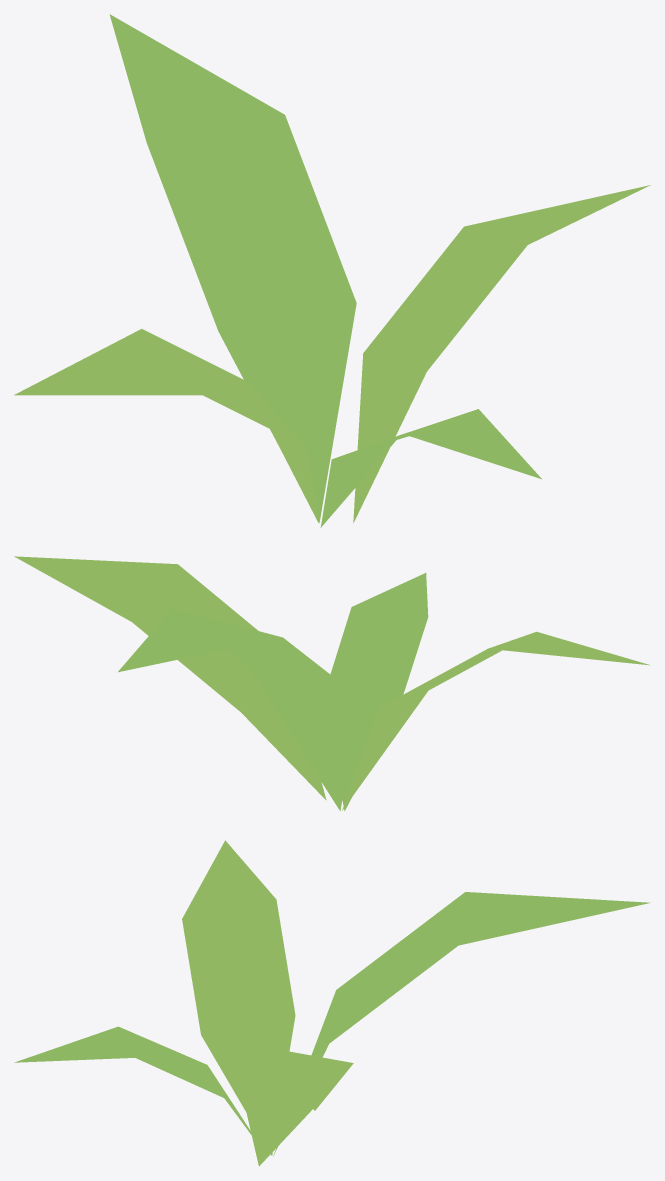
The model's file is Plant_b_TwoS_05.fbx.
3 renders of one model, top to bottom at view 1: azimuth 30°, elevation 25°; view 2: azimuth 150°, elevation 25°; view 3: azimuth 270°, elevation 25°, orthographic. The views are drawn at different scales.
Parts seen in each view (by area): view 1: Plant_b_TwoS_05; view 2: Plant_b_TwoS_05; view 3: Plant_b_TwoS_05.
Part boxes in pixels (x1,y1,x2,y2): Plant_b_TwoS_05: (14, 14, 650, 527); Plant_b_TwoS_05: (14, 556, 650, 811); Plant_b_TwoS_05: (14, 840, 650, 1166).
Size of the model in its own units: 0.9268 by 0.4245 by 0.9215.
